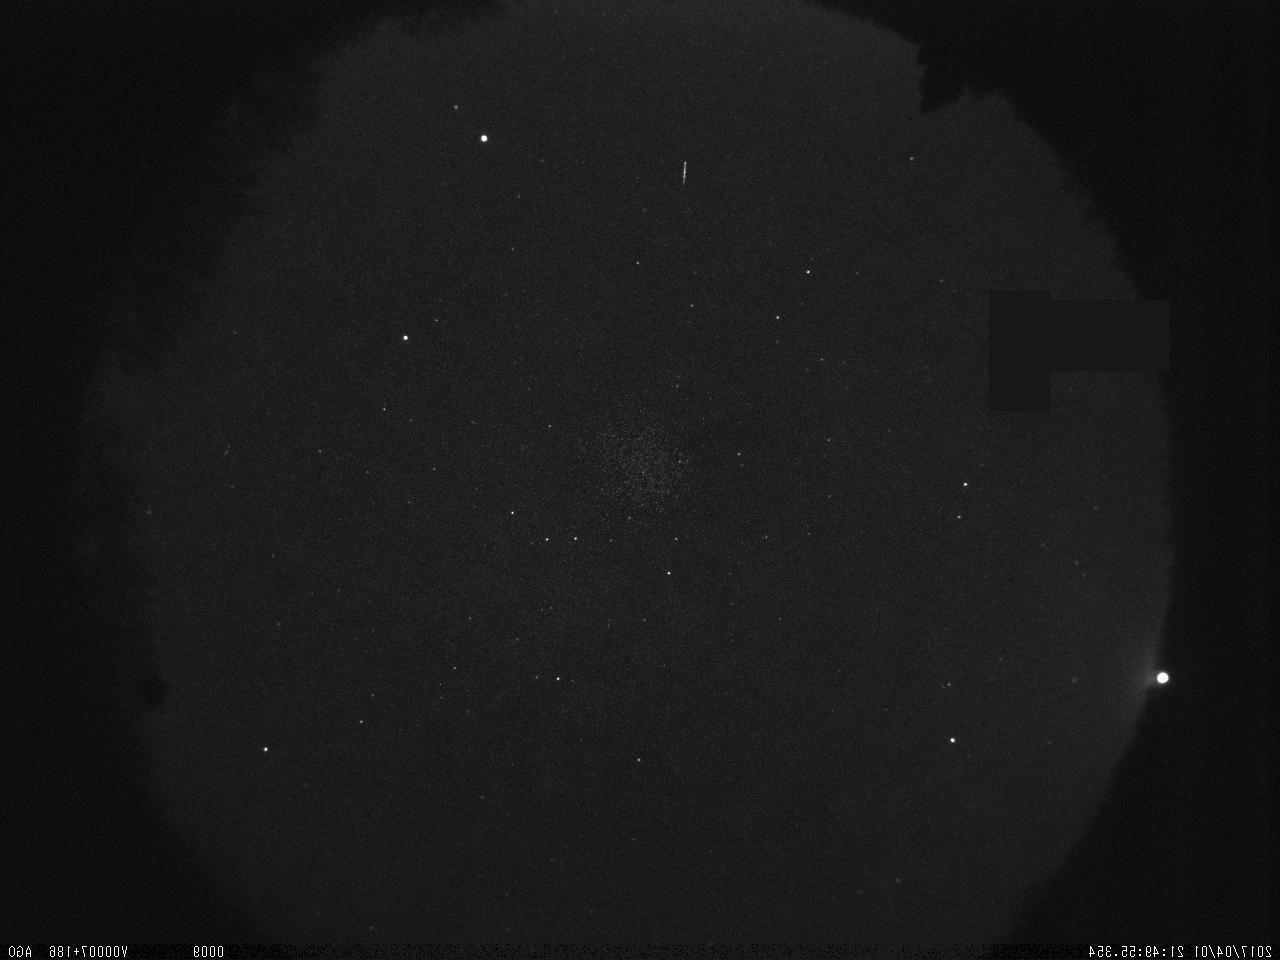meteor: (672, 154, 692, 193)
